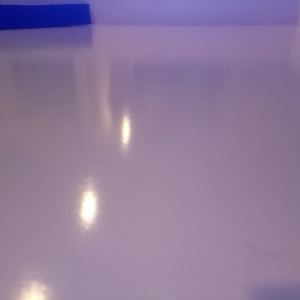zone: (1, 3, 92, 30)
